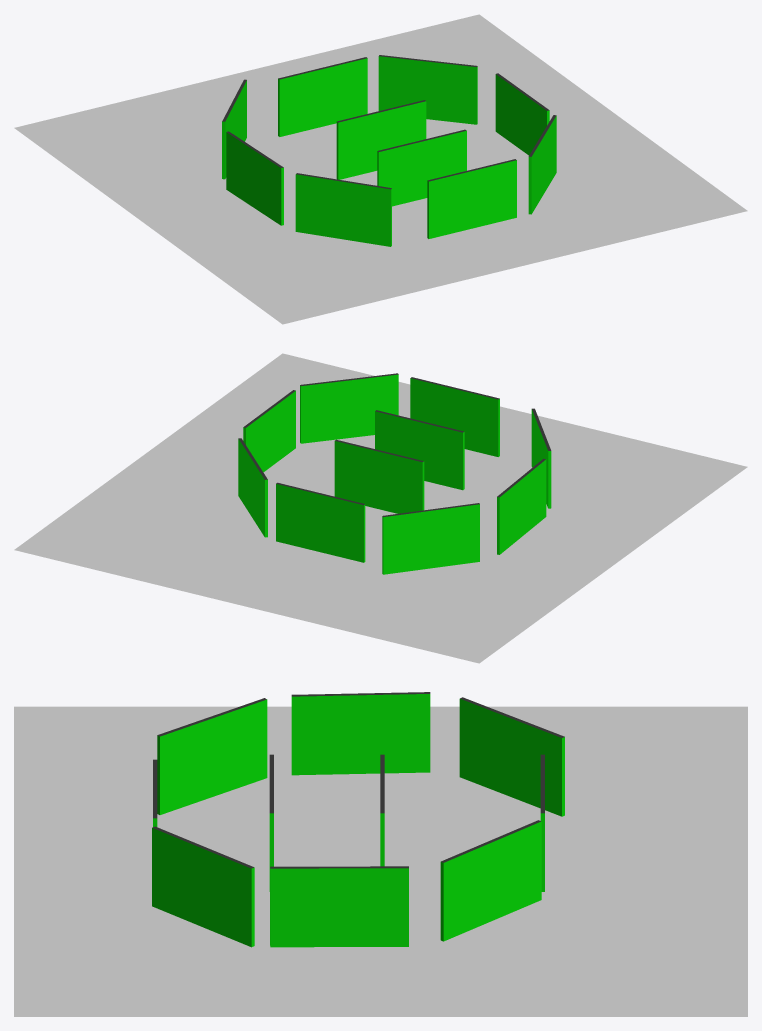
The model's file is foo.obj.
3 renders of one model, top to bottom at view 1: azimuth 30°, elevation 25°; view 2: azimuth 150°, elevation 25°; view 3: azimuth 270°, elevation 25°, orthographic. The views are drawn at different scales.
Size of the model in its own units: 1.07 by 0.127 by 1.07.
